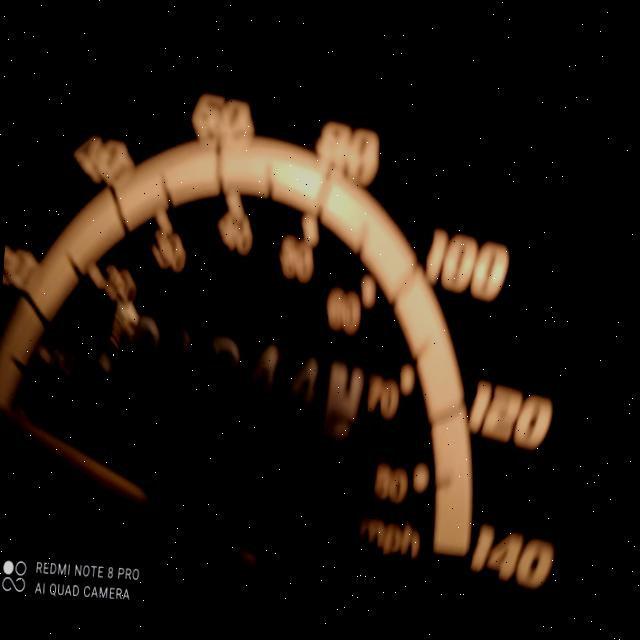odometer: (108, 306, 373, 454)
